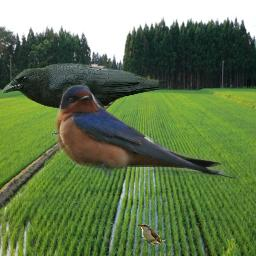Crow: (1, 63, 160, 137)
Cuckoo: (137, 222, 165, 245)
Swallow: (54, 85, 240, 181)
